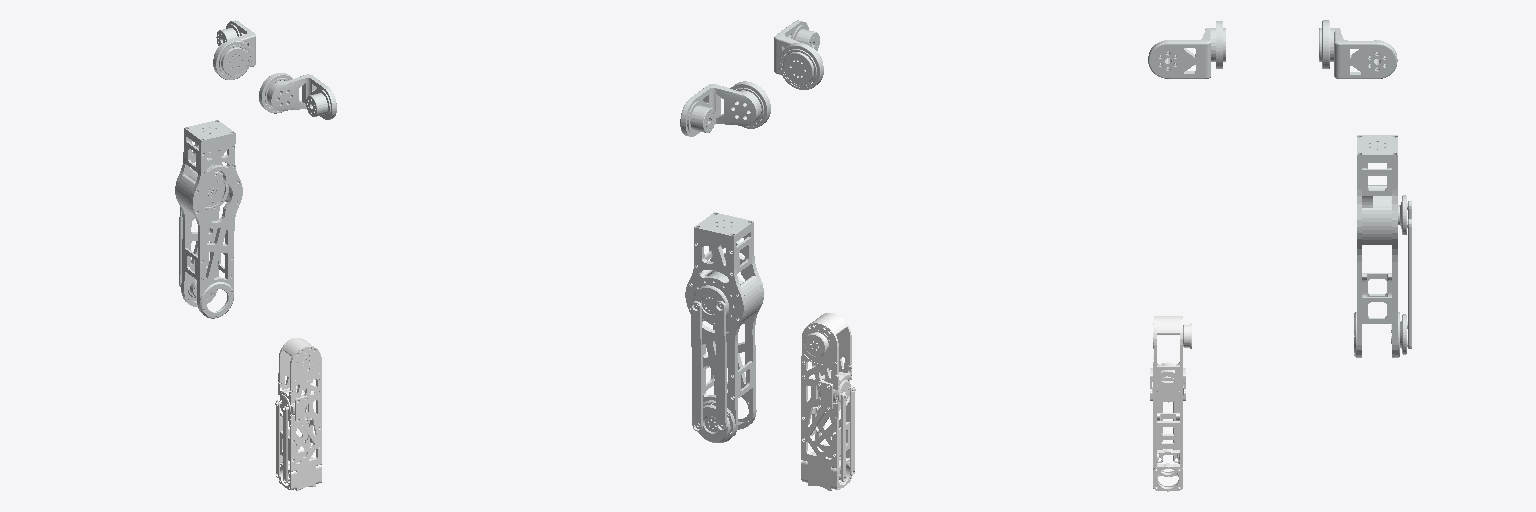
The robot description file, URDF, robot "leg_robot__5":
<?xml version="1.0" encoding="utf-8"?>
<!-- This URDF was automatically created by SolidWorks to URDF Exporter! Originally created by [author] ([email redacted]) 
     Commit Version: 1.6.0-4-g7f85cfe  Build Version: 1.6.7995.38578
     For more information, please see http://wiki.ros.org/sw_urdf_exporter -->
<robot
  name="leg_robot__5">
  <link
    name="base_link">
    <inertial>
      <origin
        xyz="-1.7111658793886E-05 1.205378852287E-11 -0.00218289060647758"
        rpy="0 0 0" />
      <mass
        value="5.17864305278156" />
      <inertia
        ixx="0.00897464945069349"
        ixy="3.11948256520947E-07"
        ixz="2.59962630411938E-06"
        iyy="0.0107926349860147"
        iyz="-2.23204935742281E-06"
        izz="0.00959216631493693" />
    </inertial>
    <visual>
      <origin
        xyz="0 0 0"
        rpy="0 0 0" />
      <geometry>
        <mesh
          filename="../meshes/base_link.STL" />
      </geometry>
      <material
        name="">
        <color
          rgba="0.898039215686275 0.917647058823529 0.929411764705882 1" />
      </material>
    </visual>
    <collision>
      <origin
        xyz="0 0 0"
        rpy="0 0 0" />
      <geometry>
        <mesh
          filename="../meshes/base_link.STL" />
      </geometry>
    </collision>
  </link>
  <link
    name="left_Link1">
    <inertial>
      <origin
        xyz="0.0275091353288909 0.0888516597801577 -0.000331637085429604"
        rpy="0 0 0" />
      <mass
        value="0.727577549530527" />
      <inertia
        ixx="0.00122498918662564"
        ixy="-0.000491750026175817"
        ixz="4.13668531229382E-06"
        iyy="0.000830508026284886"
        iyz="5.93512972246075E-06"
        izz="0.0015682117786616" />
    </inertial>
    <visual>
      <origin
        xyz="0 0 0"
        rpy="0 0 0" />
      <geometry>
        <mesh
          filename="../meshes/left_Link1.STL" />
      </geometry>
      <material
        name="">
        <color
          rgba="0.898039215686275 0.917647058823529 0.929411764705882 1" />
      </material>
    </visual>
    <collision>
      <origin
        xyz="0 0 0"
        rpy="0 0 0" />
      <geometry>
        <mesh
          filename="../meshes/left_Link1.STL" />
      </geometry>
    </collision>
  </link>
  <joint
    name="left_joint1"
    type="revolute">
    <origin
      xyz="0 0.041075 -0.01"
      rpy="0 0 0" />
    <parent
      link="base_link" />
    <child
      link="left_Link1" />
    <axis
      xyz="0 -1 0" />
    <limit
      lower="-0.75"
      upper="1.57"
      effort="63"
      velocity="20" />
  </joint>
  <link
    name="left_Link2">
    <inertial>
      <origin
        xyz="0.0154566353318297 -1.43784537611769E-05 -0.0783208736891662"
        rpy="0 0 0" />
      <mass
        value="4.32430013805945" />
      <inertia
        ixx="0.00656887067080621"
        ixy="-1.37579958991359E-05"
        ixz="-6.76317542146786E-05"
        iyy="0.00538825972808563"
        iyz="-2.75947609061849E-06"
        izz="0.00806090871691644" />
    </inertial>
    <visual>
      <origin
        xyz="0 0 0"
        rpy="0 0 0" />
      <geometry>
        <mesh
          filename="../meshes/left_Link2.STL" />
      </geometry>
      <material
        name="">
        <color
          rgba="0.898039215686275 0.917647058823529 0.929411764705882 1" />
      </material>
    </visual>
    <collision>
      <origin
        xyz="0 0 0"
        rpy="0 0 0" />
      <geometry>
        <mesh
          filename="../meshes/left_Link2.STL" />
      </geometry>
    </collision>
  </link>
  <joint
    name="left_joint2"
    type="revolute">
    <origin
      xyz="-0.013324 0.14063 0.00016068"
      rpy="0 0 0" />
    <parent
      link="left_Link1" />
    <child
      link="left_Link2" />
    <axis
      xyz="0.99993 0 -0.012059" />
    <limit
      lower="-0.08"
      upper="1.45"
      effort="63"
      velocity="20" />
  </joint>
  <link
    name="left_Link3">
    <inertial>
      <origin
        xyz="-0.0035198802196032 0.00757845307817639 -0.290565921090414"
        rpy="0 0 0" />
      <mass
        value="1.7395601452091" />
      <inertia
        ixx="0.0129677019357543"
        ixy="-1.76694508850142E-07"
        ixz="-0.000178850144217349"
        iyy="0.0139685276924755"
        iyz="-8.29118868668262E-06"
        izz="0.00128458026323371" />
    </inertial>
    <visual>
      <origin
        xyz="0 0 0"
        rpy="0 0 0" />
      <geometry>
        <mesh
          filename="../meshes/left_Link3.STL" />
      </geometry>
      <material
        name="">
        <color
          rgba="0.898039215686275 0.917647058823529 0.929411764705882 1" />
      </material>
    </visual>
    <collision>
      <origin
        xyz="0 0 0"
        rpy="0 0 0" />
      <geometry>
        <mesh
          filename="../meshes/left_Link3.STL" />
      </geometry>
    </collision>
  </link>
  <joint
    name="left_joint3"
    type="revolute">
    <origin
      xyz="0.012502 0 -0.076656"
      rpy="0 0 0" />
    <parent
      link="left_Link2" />
    <child
      link="left_Link3" />
    <axis
      xyz="0.012059 0 0.99993" />
    <limit
      lower="-1.05"
      upper="1.57"
      effort="35"
      velocity="20" />
  </joint>
  <link
    name="left_Link4">
    <inertial>
      <origin
        xyz="-0.00770513570574433 -0.0529038941425484 -0.104589690512844"
        rpy="0 0 0" />
      <mass
        value="1.06601204128385" />
      <inertia
        ixx="0.00457326350532047"
        ixy="5.00874598226818E-08"
        ixz="-5.70500904236107E-05"
        iyy="0.00474796651768602"
        iyz="1.03041309516963E-06"
        izz="0.000364137879139327" />
    </inertial>
    <visual>
      <origin
        xyz="0 0 0"
        rpy="0 0 0" />
      <geometry>
        <mesh
          filename="../meshes/left_Link4.STL" />
      </geometry>
      <material
        name="">
        <color
          rgba="1 1 1 1" />
      </material>
    </visual>
    <collision>
      <origin
        xyz="0 0 0"
        rpy="0 0 0" />
      <geometry>
        <mesh
          filename="../meshes/left_Link4.STL" />
      </geometry>
    </collision>
  </link>
  <joint
    name="left_joint4"
    type="revolute">
    <origin
      xyz="-0.0058122 0.049 -0.48196"
      rpy="0 0 0" />
    <parent
      link="left_Link3" />
    <child
      link="left_Link4" />
    <axis
      xyz="0 -1 0" />
    <limit
      lower="-2"
      upper="0"
      effort="30.6"
      velocity="15" />
  </joint>
  <link
    name="left_Link5">
    <inertial>
      <origin
        xyz="-0.0378555805119908 -0.000592433131589631 -0.0290573966366943"
        rpy="0 0 0" />
      <mass
        value="0.277379506946843" />
      <inertia
        ixx="0.000255945358686005"
        ixy="-5.54331538205489E-08"
        ixz="-2.39352445938223E-06"
        iyy="0.00028594724357096"
        iyz="-4.59550408161464E-06"
        izz="5.74969081070707E-05" />
    </inertial>
    <visual>
      <origin
        xyz="0 0 0"
        rpy="0 0 0" />
      <geometry>
        <mesh
          filename="../meshes/left_Link5.STL" />
      </geometry>
      <material
        name="">
        <color
          rgba="0.898039215686275 0.917647058823529 0.929411764705882 1" />
      </material>
    </visual>
    <collision>
      <origin
        xyz="0 0 0"
        rpy="0 0 0" />
      <geometry>
        <mesh
          filename="../meshes/left_Link5.STL" />
      </geometry>
    </collision>
  </link>
  <joint
    name="left_joint5"
    type="revolute">
    <origin
      xyz="0.032898 -0.049 -0.25742"
      rpy="0 0 0" />
    <parent
      link="left_Link4" />
    <child
      link="left_Link5" />
    <axis
      xyz="0.99993 0 -0.012059" />
    <limit
      lower="-0.5"
      upper="0.5"
      effort="4"
      velocity="10" />
  </joint>
  <link
    name="left_Link6">
    <inertial>
      <origin
        xyz="0.0123517280375918 -0.044017049704276 -0.0100139177799287"
        rpy="0 0 0" />
      <mass
        value="1.25173443245808" />
      <inertia
        ixx="0.000702807277471897"
        ixy="4.34013803938795E-05"
        ixz="0.000175638098260002"
        iyy="0.00221353772030447"
        iyz="-4.33529658260178E-05"
        izz="0.00198937628665221" />
    </inertial>
    <visual>
      <origin
        xyz="0 0 0"
        rpy="0 0 0" />
      <geometry>
        <mesh
          filename="../meshes/left_Link6.STL" />
      </geometry>
      <material
        name="">
        <color
          rgba="0.898039215686275 0.917647058823529 0.929411764705882 1" />
      </material>
    </visual>
    <collision>
      <origin
        xyz="0 0 0"
        rpy="0 0 0" />
      <geometry>
        <mesh
          filename="../meshes/left_Link6.STL" />
      </geometry>
    </collision>
  </link>
  <joint
    name="left_joint6"
    type="revolute">
    <origin
      xyz="-0.036854 0.050385 -0.070586"
      rpy="0 0 0" />
    <parent
      link="left_Link5" />
    <child
      link="left_Link6" />
    <axis
      xyz="-0.00024202 0.9998 -0.020069" />
    <limit
      lower="-0.6"
      upper="1.3"
      effort="4"
      velocity="10" />
  </joint>
  <link
    name="right_Link1">
    <inertial>
      <origin
        xyz="0.0275111551333931 -0.0888516568342696 5.694329605066E-06"
        rpy="0 0 0" />
      <mass
        value="0.727582386769025" />
      <inertia
        ixx="0.00122493877683347"
        ixy="0.000491783671898881"
        ixz="-6.99539511714679E-08"
        iyy="0.000830509950734823"
        iyz="1.03754292095641E-07"
        izz="0.00156825672134868" />
    </inertial>
    <visual>
      <origin
        xyz="0 0 0"
        rpy="0 0 0" />
      <geometry>
        <mesh
          filename="../meshes/right_Link1.STL" />
      </geometry>
      <material
        name="">
        <color
          rgba="0.898039215686275 0.917647058823529 0.929411764705882 1" />
      </material>
    </visual>
    <collision>
      <origin
        xyz="0 0 0"
        rpy="0 0 0" />
      <geometry>
        <mesh
          filename="../meshes/right_Link1.STL" />
      </geometry>
    </collision>
  </link>
  <joint
    name="right_joint1"
    type="revolute">
    <origin
      xyz="0 -0.041075 -0.01"
      rpy="0 0 0" />
    <parent
      link="base_link" />
    <child
      link="right_Link1" />
    <axis
      xyz="0 1 0" />
    <limit
      lower="-1.57"
      upper="0.75"
      effort="63"
      velocity="20" />
  </joint>
  <link
    name="right_Link2">
    <inertial>
      <origin
        xyz="0.0164148082704096 -1.6643452372983E-05 -0.0781264070751896"
        rpy="0 0 0" />
      <mass
        value="4.32429982010498" />
      <inertia
        ixx="0.00656963697838032"
        ixy="-1.23970905091491E-05"
        ixz="-8.58975862412141E-05"
        iyy="0.00538859650837384"
        iyz="-3.97010562447125E-06"
        izz="0.00805980410002603" />
    </inertial>
    <visual>
      <origin
        xyz="0 0 0"
        rpy="0 0 0" />
      <geometry>
        <mesh
          filename="../meshes/right_Link2.STL" />
      </geometry>
      <material
        name="">
        <color
          rgba="0.898039215686275 0.917647058823529 0.929411764705882 1" />
      </material>
    </visual>
    <collision>
      <origin
        xyz="0 0 0"
        rpy="0 0 0" />
      <geometry>
        <mesh
          filename="../meshes/right_Link2.STL" />
      </geometry>
    </collision>
  </link>
  <joint
    name="right_joint2"
    type="revolute">
    <origin
      xyz="-0.013325 -0.14063 0"
      rpy="0 0 0" />
    <parent
      link="right_Link1" />
    <child
      link="right_Link2" />
    <axis
      xyz="1 0 0.00020514" />
    <limit
      lower="-1.45"
      upper="0.08"
      effort="6"
      velocity="20" />
  </joint>
  <link
    name="right_Link3">
    <inertial>
      <origin
        xyz="2.91636348348084E-05 -0.00757845307987584 -0.290593198689922"
        rpy="0 0 0" />
      <mass
        value="1.73956014602677" />
      <inertia
        ixx="0.0129712907773977"
        ixy="-5.78962497967193E-08"
        ixz="-3.68349171843704E-05"
        iyy="0.013968693249696"
        iyz="8.23856486133444E-06"
        izz="0.00128115697898246" />
    </inertial>
    <visual>
      <origin
        xyz="0 0 0"
        rpy="0 0 0" />
      <geometry>
        <mesh
          filename="../meshes/right_Link3.STL" />
      </geometry>
      <material
        name="">
        <color
          rgba="1 1 1 1" />
      </material>
    </visual>
    <collision>
      <origin
        xyz="0 0 0"
        rpy="0 0 0" />
      <geometry>
        <mesh
          filename="../meshes/right_Link3.STL" />
      </geometry>
    </collision>
  </link>
  <joint
    name="right_joint3"
    type="revolute">
    <origin
      xyz="0.013441 0 -0.076497"
      rpy="0 0 0" />
    <parent
      link="right_Link2" />
    <child
      link="right_Link3" />
    <axis
      xyz="-0.00020514 0 1" />
    <limit
      lower="-1.57"
      upper="1.05"
      effort="35"
      velocity="20" />
  </joint>
  <link
    name="right_Link4">
    <inertial>
      <origin
        xyz="-0.00715365527099464 0.049678225821265 -0.116603775319741"
        rpy="0 0 0" />
      <mass
        value="0.956969148524008" />
      <inertia
        ixx="0.00453508878823655"
        ixy="3.74458867448996E-08"
        ixz="-5.41738815640906E-06"
        iyy="0.0046725805883325"
        iyz="1.03095034078231E-06"
        izz="0.000324431105343351" />
    </inertial>
    <visual>
      <origin
        xyz="0 0 0"
        rpy="0 0 0" />
      <geometry>
        <mesh
          filename="../meshes/right_Link4.STL" />
      </geometry>
      <material
        name="">
        <color
          rgba="1 1 1 1" />
      </material>
    </visual>
    <collision>
      <origin
        xyz="0 0 0"
        rpy="0 0 0" />
      <geometry>
        <mesh
          filename="../meshes/right_Link4.STL" />
      </geometry>
    </collision>
  </link>
  <joint
    name="right_joint4"
    type="revolute">
    <origin
      xyz="9.888E-05 -0.049 -0.482"
      rpy="0 0 0" />
    <parent
      link="right_Link3" />
    <child
      link="right_Link4" />
    <axis
      xyz="0 1 0" />
    <limit
      lower="0"
      upper="2"
      effort="30.6"
      velocity="15" />
  </joint>
  <link
    name="right_Link5">
    <inertial>
      <origin
        xyz="-0.0374963826200306 0.000649830067335294 -0.0295182519400791"
        rpy="0 0 0" />
      <mass
        value="0.277379505508691" />
      <inertia
        ixx="0.000255974215371211"
        ixy="-1.04707483533278E-09"
        ixz="4.07186387351988E-08"
        iyy="0.000285928501619601"
        iyz="5.0408928937266E-06"
        izz="5.74867951322018E-05" />
    </inertial>
    <visual>
      <origin
        xyz="0 0 0"
        rpy="0 0 0" />
      <geometry>
        <mesh
          filename="../meshes/right_Link5.STL" />
      </geometry>
      <material
        name="">
        <color
          rgba="0.898039215686275 0.917647058823529 0.929411764705882 1" />
      </material>
    </visual>
    <collision>
      <origin
        xyz="0 0 0"
        rpy="0 0 0" />
      <geometry>
        <mesh
          filename="../meshes/right_Link5.STL" />
      </geometry>
    </collision>
  </link>
  <joint
    name="right_joint5"
    type="revolute">
    <origin
      xyz="0.036053 0.049 -0.25699"
      rpy="0 0 0" />
    <parent
      link="right_Link4" />
    <child
      link="right_Link5" />
    <axis
      xyz="1 0 0.00020514" />
    <limit
      lower="-0.5"
      upper="0.5"
      effort="4"
      velocity="10" />
  </joint>
  <link
    name="right_Link6">
    <inertial>
      <origin
        xyz="0.0123640939029363 0.0442409718182375 -0.00999287132452265"
        rpy="0 0 0" />
      <mass
        value="1.25173224490839" />
      <inertia
        ixx="0.000704805135136469"
        ixy="-4.36488897262924E-05"
        ixz="0.000182611627081858"
        iyy="0.00221332728073408"
        iyz="4.40894725849787E-05"
        izz="0.00198757066080809" />
    </inertial>
    <visual>
      <origin
        xyz="0 0 0"
        rpy="0 0 0" />
      <geometry>
        <mesh
          filename="../meshes/right_Link6.STL" />
      </geometry>
      <material
        name="">
        <color
          rgba="0.898039215686275 0.917647058823529 0.929411764705882 1" />
      </material>
    </visual>
    <collision>
      <origin
        xyz="0 0 0"
        rpy="0 0 0" />
      <geometry>
        <mesh
          filename="../meshes/right_Link6.STL" />
      </geometry>
    </collision>
  </link>
  <joint
    name="right_joint6"
    type="revolute">
    <origin
      xyz="-0.035985 -0.050446 -0.071135"
      rpy="0 0 0" />
    <parent
      link="right_Link5" />
    <child
      link="right_Link6" />
    <axis
      xyz="0 -0.99976 -0.022015" />
    <limit
      lower="-1.3"
      upper="0.6"
      effort="4"
      velocity="10" />
  </joint>
</robot>

--- Facts derived from the render (not from the file) ---
Views: 3 orthographic renders of the robot side by side, from view 1: azimuth 30°, elevation 25°; view 2: azimuth 150°, elevation 25°; view 3: azimuth 270°, elevation 25°.
Model leg_robot__5 with 13 links and 12 joints (12 revolute), rooted at base_link, posed every joint at zero.
Links seen in each view (by area): view 1: left_Link3, right_Link4, right_Link1, left_Link1; view 2: left_Link3, right_Link4, left_Link1, right_Link1; view 3: left_Link3, right_Link4, left_Link1, right_Link1.
Boxes of the visible links, x1,y1,x2,y2 form: left_Link3: (175,120,242,318); right_Link4: (275,338,321,490); right_Link1: (259,73,336,119); left_Link1: (213,20,255,79); left_Link3: (685,212,763,442); right_Link4: (801,313,855,490); left_Link1: (680,81,770,136); right_Link1: (774,20,823,89); left_Link3: (1354,135,1411,357); right_Link4: (1150,316,1191,491); left_Link1: (1319,20,1397,78); right_Link1: (1148,21,1225,78).
Bounding box of the posed robot: 0.1305 × 0.4582 × 0.8837 m (x, y, z).
4 mesh visuals loaded from 13 distinct referenced files (4 binary STL); not drawn: 9 (reference not matched to a file when rendering).